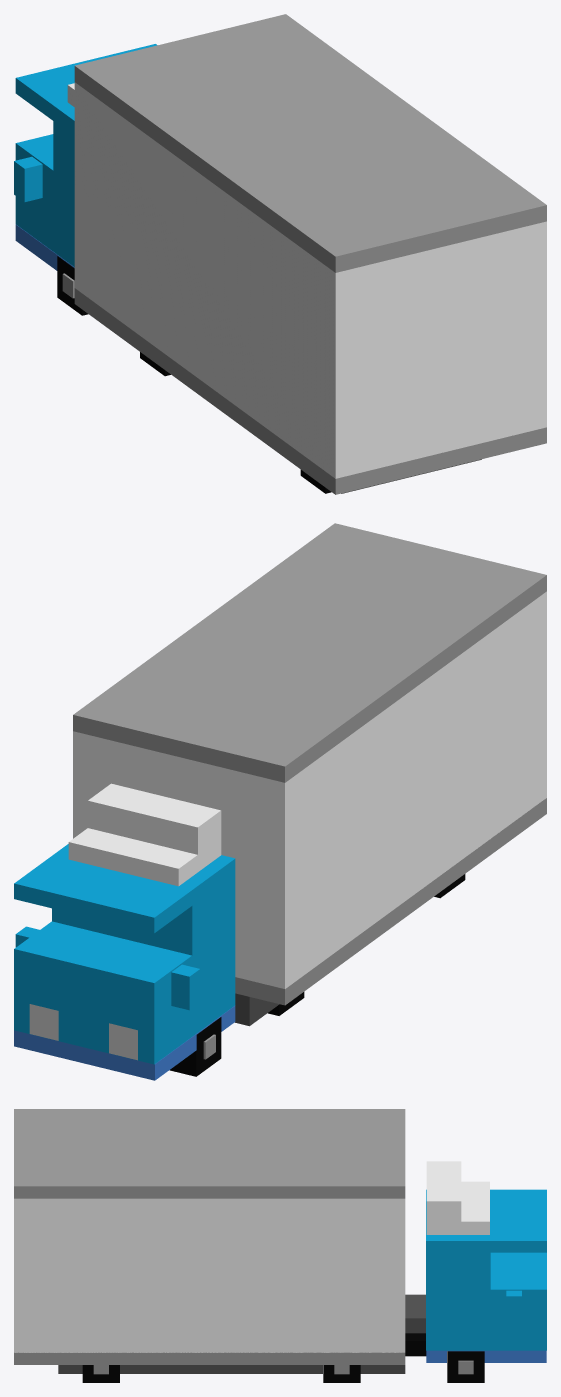
File: SM_truck.fbx
3 views of the same model, one above another, from view 1: azimuth 30°, elevation 25°; view 2: azimuth 150°, elevation 25°; view 3: azimuth 270°, elevation 25° (orthographic). The views are drawn at different scales.
Parts seen in each view (by area): view 1: Cube.001, Cube.002, Cube, Cube.003, Cube.019, Cube.005, Cube.004; view 2: Cube.001, Cube.002, Cube, Cube.006, Cube.003, Cube.005, Cube.004, Cube.019, Plane, Cube.009, Plane.001; view 3: Cube.001, Cube.002, Cube, Cube.003, Cube.006, Cube.009, Cube.005, Cube.010, Cube.018, Cube.011, Cube.015, Cube.007 (+1 smaller).
Boxes of the visible parts, <box> form: Cube.001: <box>74,82,546,478</box>; Cube.002: <box>74,14,546,272</box>; Cube: <box>15,44,157,266</box>; Cube.003: <box>74,288,546,494</box>; Cube.019: <box>14,156,42,202</box>; Cube.005: <box>15,224,74,270</box>; Cube.004: <box>57,256,88,315</box>; Cube.001: <box>73,591,546,988</box>; Cube.002: <box>73,523,546,782</box>; Cube: <box>14,844,235,1064</box>; Cube.006: <box>68,783,221,886</box>; Cube.003: <box>235,798,546,1005</box>; Cube.005: <box>14,1005,235,1080</box>; Cube.004: <box>169,1017,221,1076</box>; Cube.019: <box>171,964,200,1010</box>; Plane: <box>29,1004,58,1040</box>; Cube.009: <box>235,993,279,1026</box>; Plane.001: <box>109,1023,137,1060</box>; Cube.001: <box>14,1198,405,1352</box>; Cube.002: <box>14,1109,405,1198</box>; Cube: <box>426,1189,546,1350</box>; Cube.003: <box>14,1352,405,1364</box>; Cube.006: <box>426,1161,489,1234</box>; Cube.009: <box>58,1365,405,1373</box>; Cube.005: <box>426,1350,546,1362</box>; Cube.010: <box>447,1351,484,1382</box>; Cube.018: <box>405,1294,425,1333</box>; Cube.011: <box>323,1365,360,1382</box>; Cube.015: <box>82,1365,119,1382</box>; Cube.007: <box>506,1290,521,1321</box>.
Size of the model in its own units: 100 by 127 by 292.
